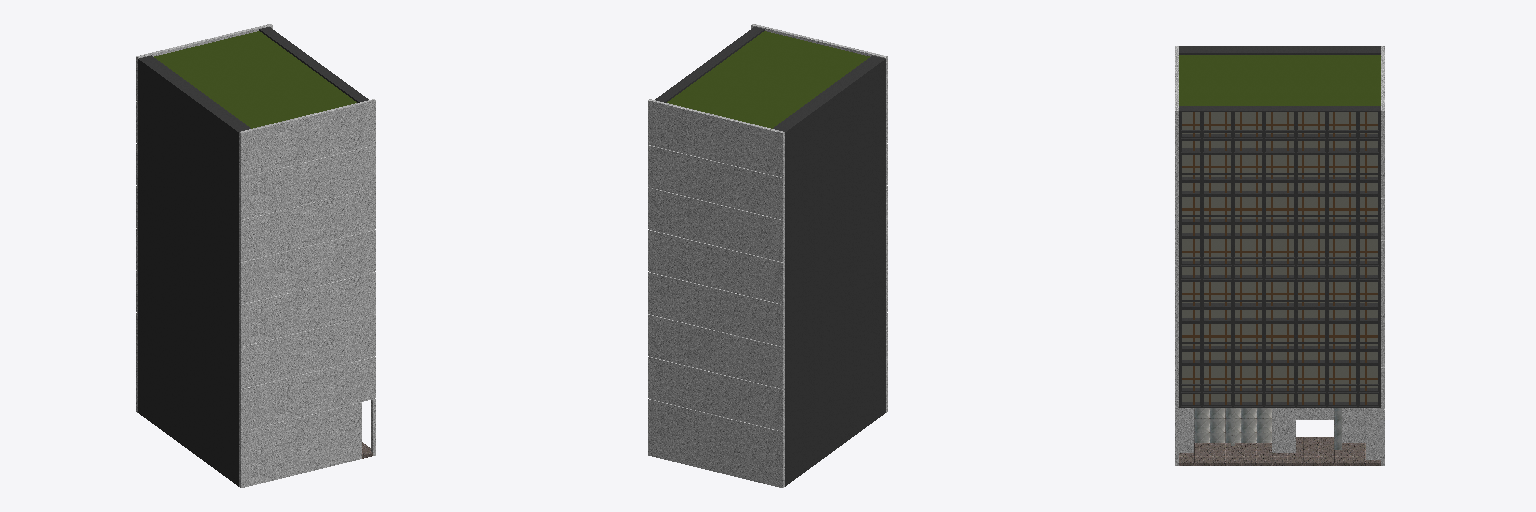
The picture shows the model from 3 angles: view 1: azimuth 30°, elevation 25°; view 2: azimuth 150°, elevation 25°; view 3: azimuth 270°, elevation 25°; orthographic projection.
Visible parts, largest first — view 1: minecraft_concrete_white_-1, minecraft_hardened_clay_stained_gray_-1, minecraft_concrete_green_-1; view 2: minecraft_concrete_white_-1, minecraft_hardened_clay_stained_gray_-1, minecraft_concrete_green_-1; view 3: minecraft_hardened_clay_stained_gray_-1, minecraft_concrete_silver_-1, minecraft_concrete_green_-1, minecraft_glass_brown_-1, minecraft_concrete_white_-1, minecraft_stone_andesite_smooth_-1, minecraft_prismarine_bricks_-1.
Boxes of the visible parts, x1=… form: minecraft_concrete_white_-1: x1=136, y1=24, x2=375, y2=487; minecraft_hardened_clay_stained_gray_-1: x1=138, y1=27, x2=368, y2=486; minecraft_concrete_green_-1: x1=154, y1=31, x2=356, y2=128; minecraft_concrete_white_-1: x1=648, y1=24, x2=887, y2=487; minecraft_hardened_clay_stained_gray_-1: x1=655, y1=27, x2=885, y2=486; minecraft_concrete_green_-1: x1=667, y1=31, x2=869, y2=128; minecraft_hardened_clay_stained_gray_-1: x1=1179, y1=46, x2=1380, y2=407; minecraft_concrete_silver_-1: x1=1182, y1=112, x2=1377, y2=401; minecraft_concrete_green_-1: x1=1179, y1=55, x2=1380, y2=105; minecraft_glass_brown_-1: x1=1182, y1=112, x2=1377, y2=404; minecraft_concrete_white_-1: x1=1175, y1=46, x2=1384, y2=465; minecraft_stone_andesite_smooth_-1: x1=1179, y1=437, x2=1380, y2=465; minecraft_prismarine_bricks_-1: x1=1194, y1=408, x2=1341, y2=449.
Bounding box in the file's own units: 10 × 25.19 × 13.5.
Materials: 9 (9 with a texture image).